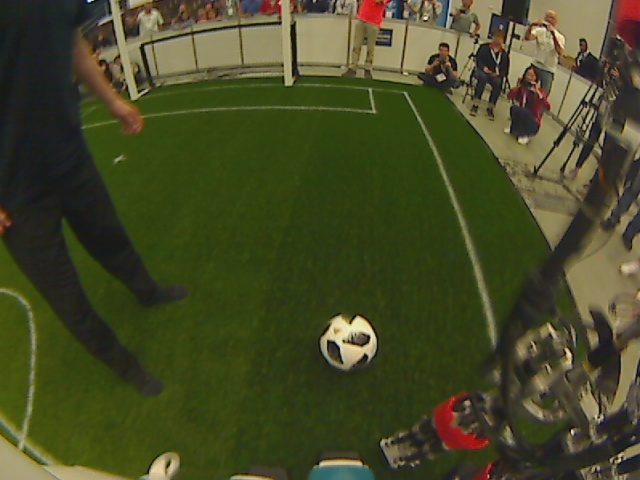ball: (315, 311, 379, 373)
goalpost: (109, 1, 295, 101)
robot: (379, 1, 640, 477)
